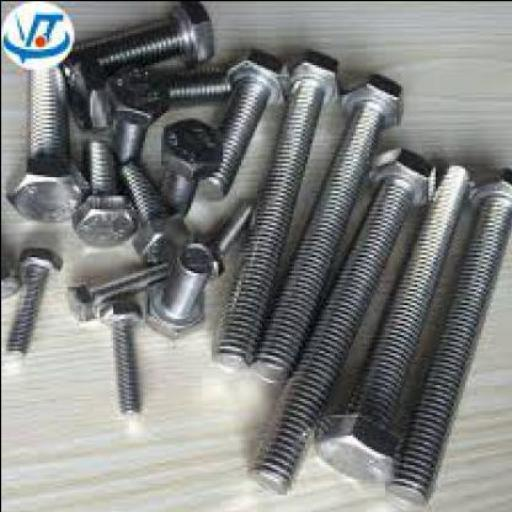metal: (242, 144, 434, 496), (314, 160, 468, 502), (254, 70, 402, 380), (208, 44, 343, 364), (384, 165, 510, 498), (0, 41, 87, 217), (59, 52, 231, 126), (210, 44, 274, 194), (66, 1, 210, 64), (116, 155, 186, 254), (100, 57, 164, 165), (73, 128, 133, 240), (144, 237, 206, 341), (158, 114, 217, 220), (98, 293, 146, 413), (66, 261, 162, 320), (7, 242, 57, 354), (201, 190, 252, 274)
